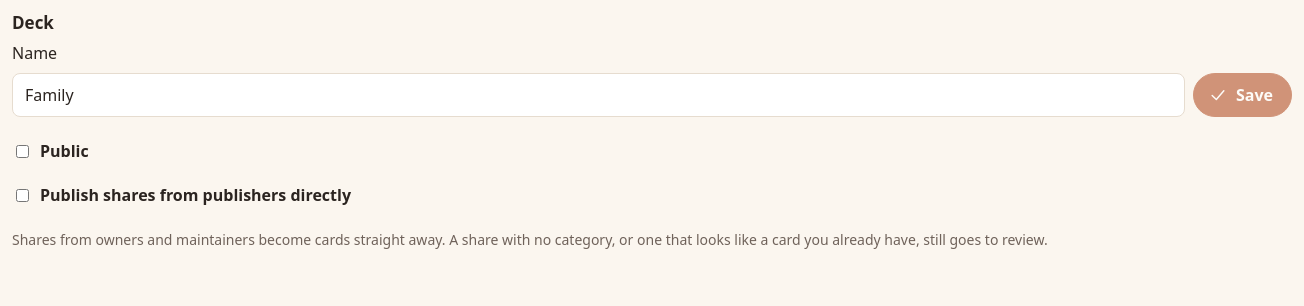
Test: DeckSection (D184) › shows the server refusal
Replace the text in the field labelled "Name" with "Cousins": (598, 95) [12,73,1185,117]
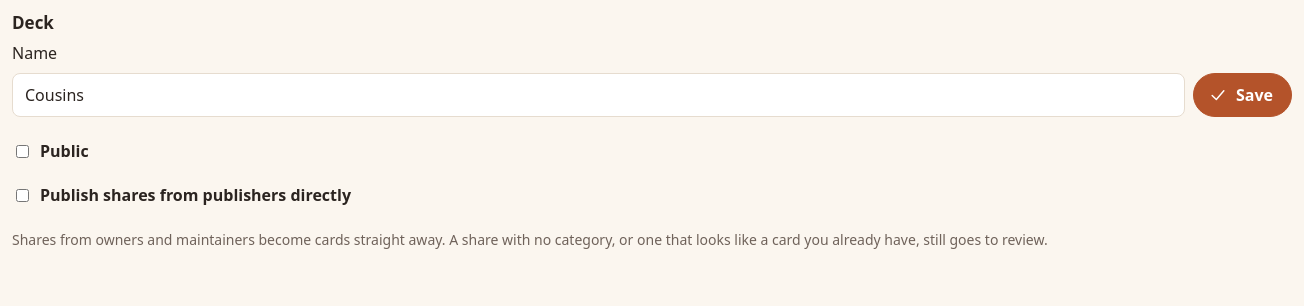
Click the button "Save": (1242, 95) [1193,73,1292,117]
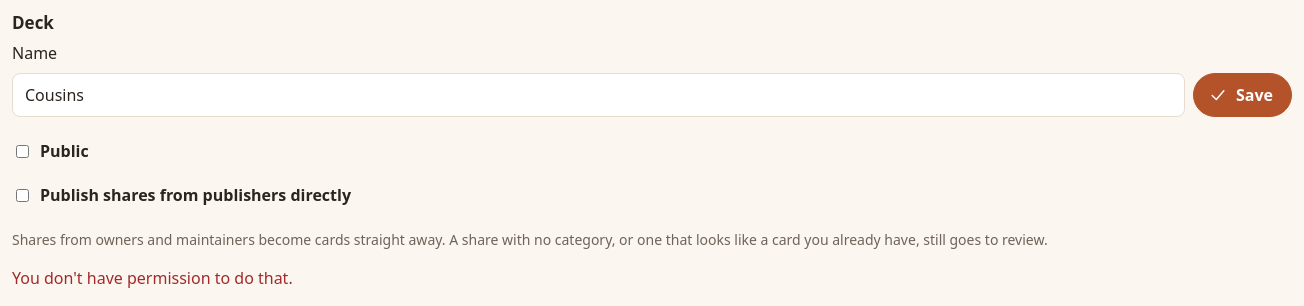
Now the message shows "permission", box [12,267,293,289]
